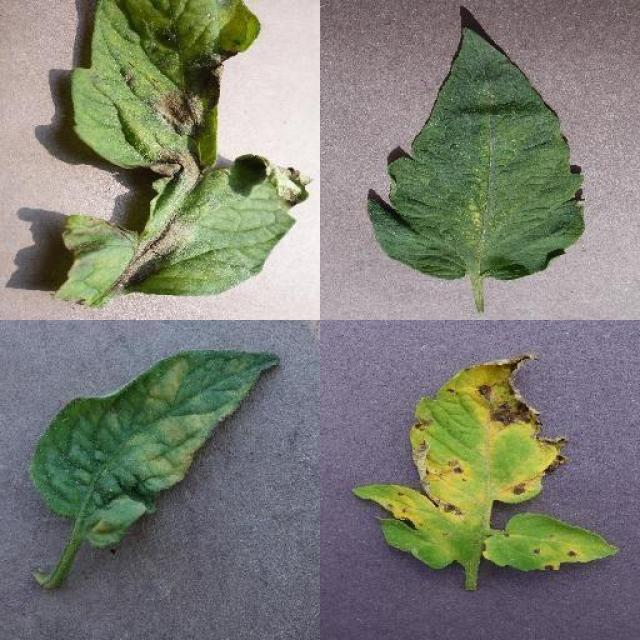Late Blight: (52, 0, 312, 310)
Septoria: (357, 353, 568, 572), (483, 511, 622, 571)
